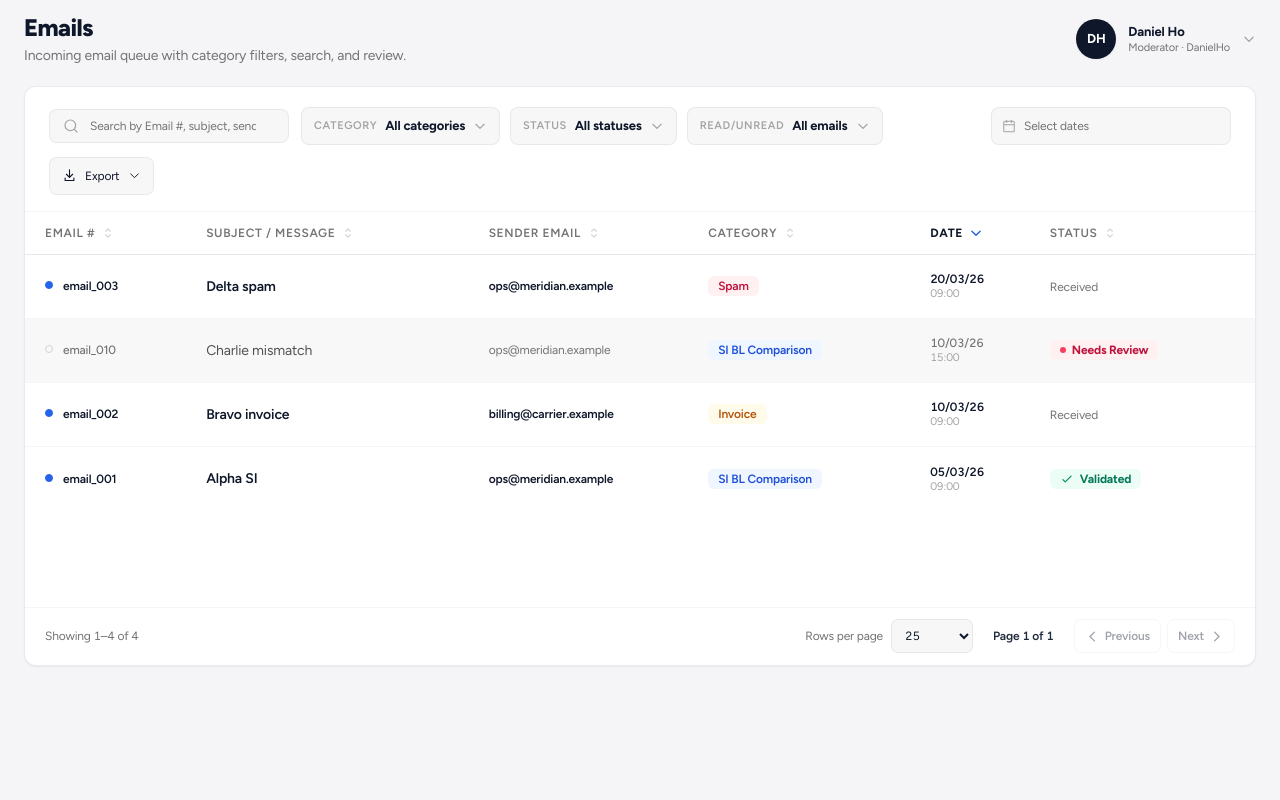
it: Emails review › steps through the list as filtered and sorted
Click the text "Delta spam": [241, 286] box [206,278,276,295]
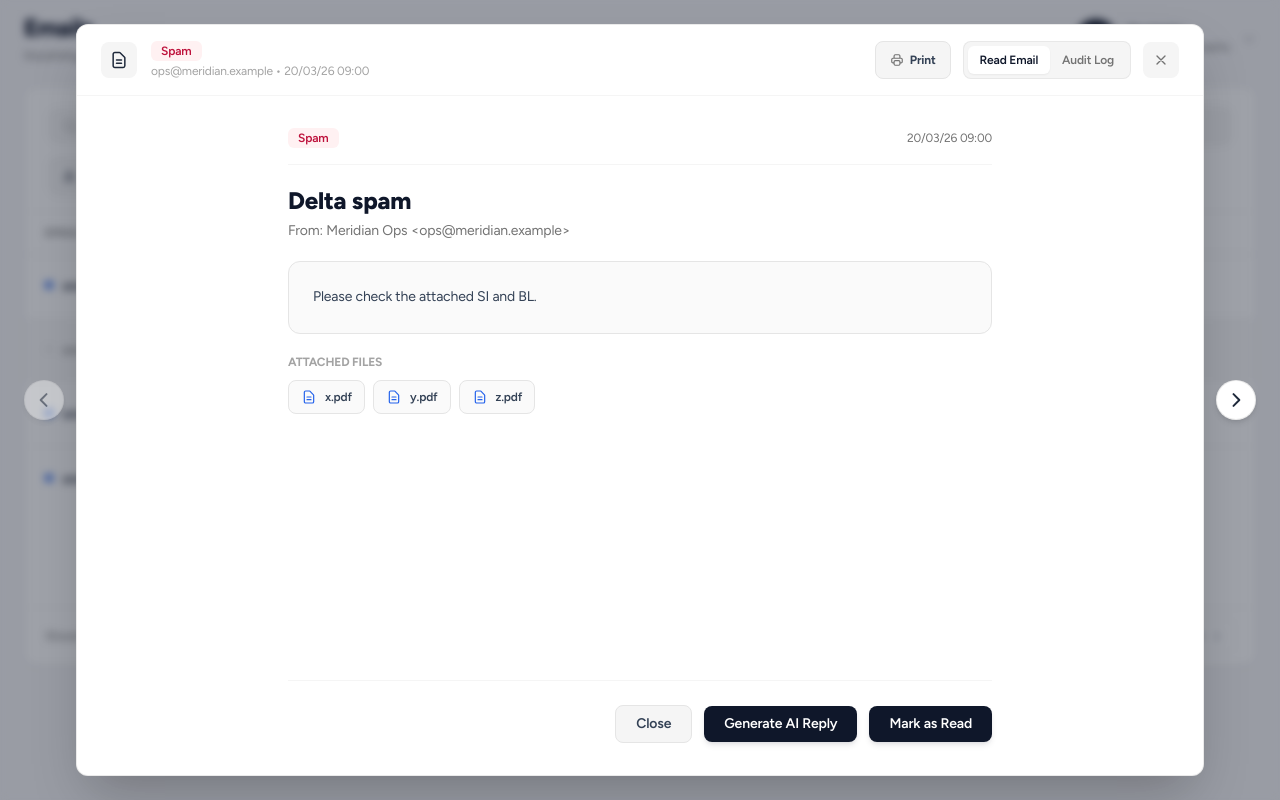
Now the button named "Previous email" is disabled, box [24,380,64,420]
Click the button named "Next email": [1236, 400] box [1216,380,1256,420]
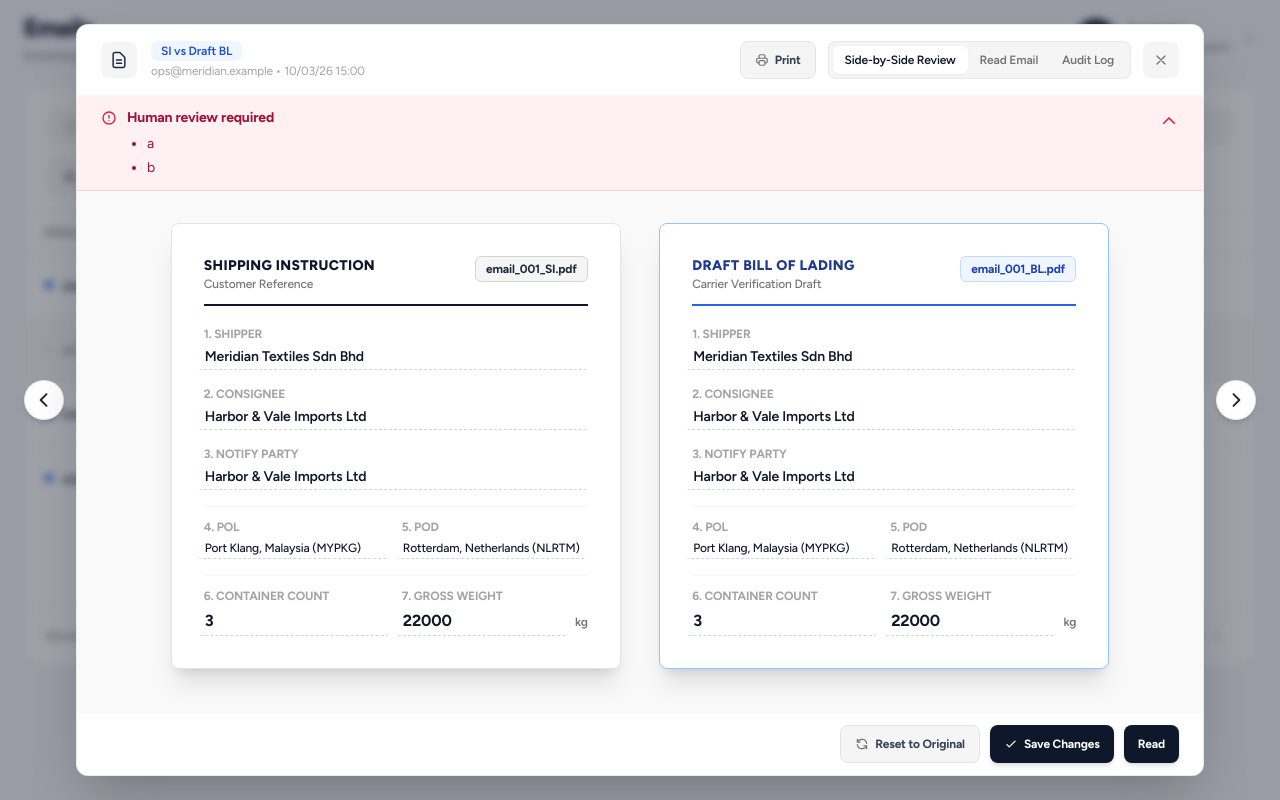
Now the dialog named "Manifest Inspection email_010" is shown
